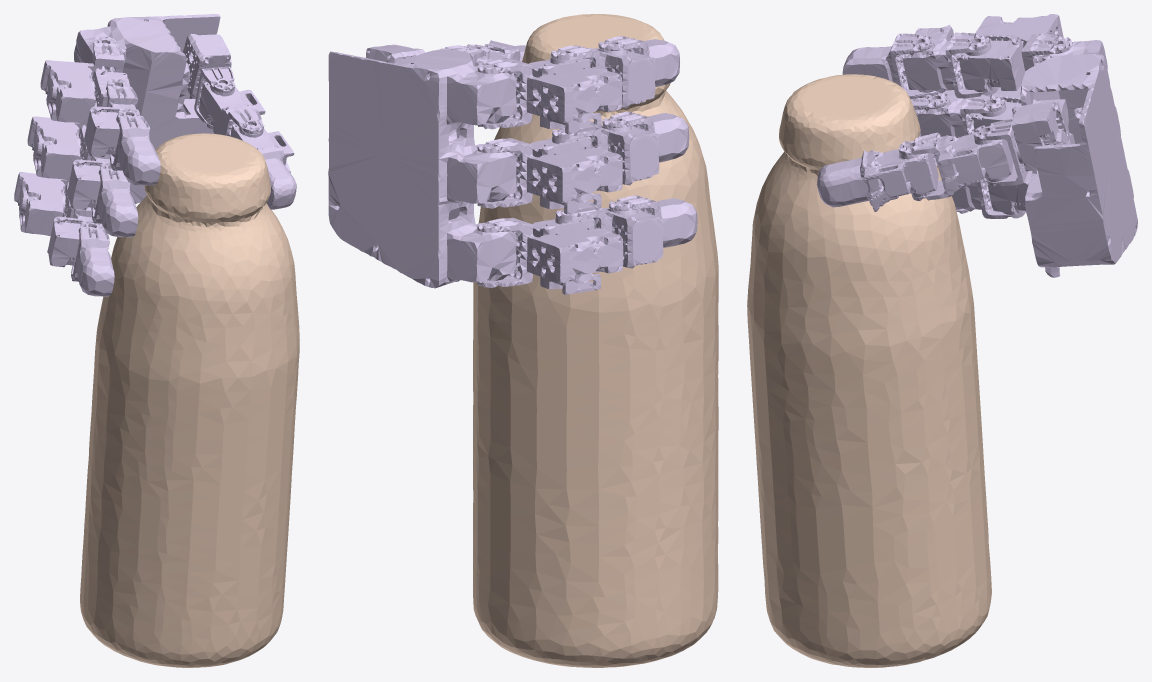
The model's file is 16656070ecb582-final.glb.
The picture shows the model from 3 angles, left to right: view 1: azimuth 30°, elevation 25°; view 2: azimuth 150°, elevation 25°; view 3: azimuth 270°, elevation 25°; orthographic projection. The views are drawn at different scales.
Visible parts, largest first — view 1: world, LEAP_hand; view 2: world, LEAP_hand; view 3: world, LEAP_hand.
Part boxes in pixels (x1,y1,x2,y2): world: (80, 133, 299, 667); LEAP_hand: (14, 14, 296, 296); world: (473, 14, 718, 667); LEAP_hand: (328, 36, 697, 294); world: (747, 74, 991, 667); LEAP_hand: (816, 14, 1137, 277).
Size of the model in its own units: 0.1723 by 0.3954 by 0.2352.
